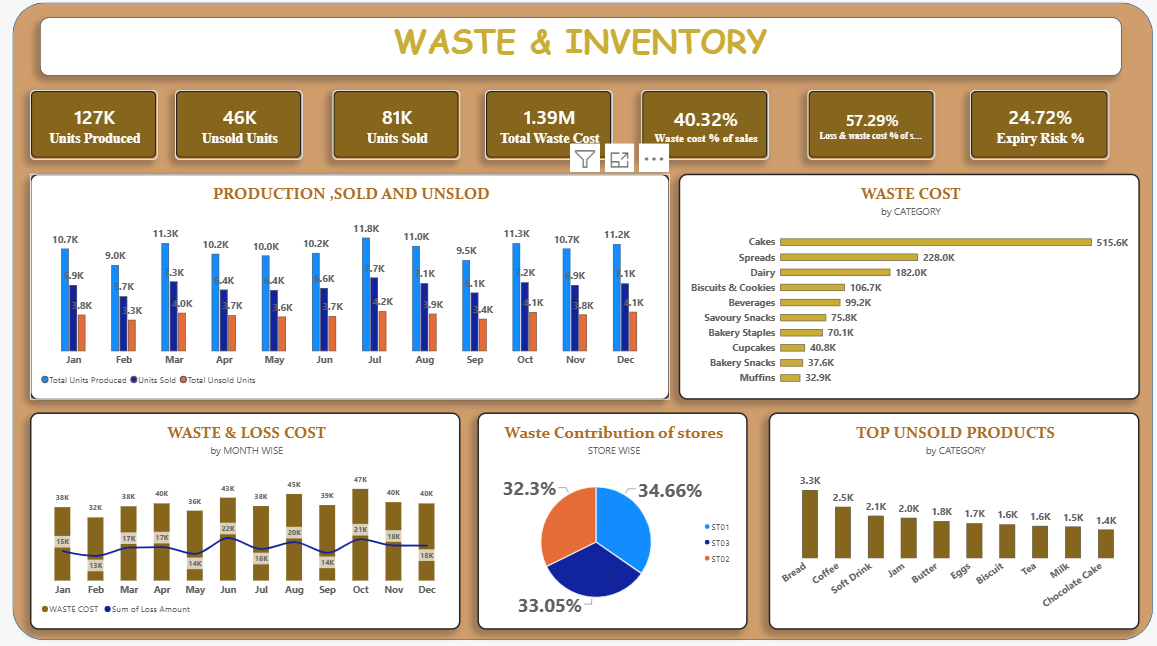

What the dashboard file says about the page in this screenshot:
{"tool":"powerbi","page":{"name":"WASTE & INVENTORY ","canvas":[1920,1080],"ordinal":2},"visuals":[{"type":"shape","box":[20,13.3,1878,1050],"z":0},{"type":"cardVisual","fields":{"Data":["_Measures.Units Produced"]},"box":[48.9,157.4,210.6,114.9],"z":1000},{"type":"textbox","box":[66,36.2,1780.9,95.7],"z":2000},{"type":"cardVisual","fields":{"Data":["_Measures.Unsold Units"]},"box":[287.2,157.4,210.6,114.9],"z":3000},{"type":"cardVisual","fields":{"Data":["_Measures.Units Sold"]},"box":[546.8,157.4,210.6,114.9],"z":4000},{"type":"cardVisual","fields":{"Data":["_Measures.Total Waste Cost"]},"box":[797.9,157.4,210.6,114.9],"z":5000},{"type":"cardVisual","fields":{"Data":["_Measures.Waste %"]},"box":[1055.3,157.4,210.6,114.9],"z":6000},{"type":"cardVisual","fields":{"Data":["_Measures.Loss + Waste %"]},"box":[1329.8,157.4,210.6,114.9],"z":7000},{"type":"cardVisual","fields":{"Data":["_Measures.Expiry Risk %"]},"box":[1597.9,157.4,229.8,114.9],"z":8000},{"type":"clusteredColumnChart","title":"PRODUCTION ,SOLD AND UNSLOD ","fields":{"Y":["_Measures.Total Units Produced","_Measures.Units Sold","_Measures.Total Unsold Units"],"Category":["bakery_synthetic_dataset.MONTH NAME"]},"box":[49.4,294.3,1053.9,372.6],"z":9000},{"type":"barChart","title":"WASTE COST ","fields":{"Category":["bakery_synthetic_dataset.Category"],"Y":["_Measures.Total Waste Cost"]},"box":[1117,293.6,759.6,372.3],"z":10000},{"type":"columnChart","title":"TOP UNSOLD PRODUCTS","fields":{"Category":["bakery_synthetic_dataset.Product"],"Y":["_Measures.Unsold Units"]},"box":[1266,687.2,610.6,357.4],"z":11000},{"type":"lineStackedColumnComboChart","title":"WASTE & LOSS COST","fields":{"Category":["bakery_synthetic_dataset.MONTH"],"Y":["Sum(bakery_synthetic_dataset.Waste_Cost)"],"Y2":["Sum(bakery_synthetic_dataset.Loss Amount)"]},"box":[48.9,687.2,708.5,357.4],"z":12000},{"type":"pieChart","title":"Waste Contribution of stores","fields":{"Category":["bakery_synthetic_dataset.Store_ID"],"Y":["_Measures.Waste %"]},"box":[787.2,687.2,444.7,357.4],"z":13000}]}

Visuals, with their boxes in screenshot pixels (x1, y1, x2, y2), scaled from the page's 1920x1080 canvas onto the 1157x646 screenshot:
shape: [x1=12, y1=8, x2=1144, y2=636]
cardVisual - _Measures.Units Produced: [x1=29, y1=94, x2=156, y2=163]
textbox: [x1=40, y1=22, x2=1113, y2=79]
cardVisual - _Measures.Unsold Units: [x1=173, y1=94, x2=300, y2=163]
cardVisual - _Measures.Units Sold: [x1=330, y1=94, x2=456, y2=163]
cardVisual - _Measures.Total Waste Cost: [x1=481, y1=94, x2=608, y2=163]
cardVisual - _Measures.Waste %: [x1=636, y1=94, x2=763, y2=163]
cardVisual - _Measures.Loss + Waste %: [x1=801, y1=94, x2=928, y2=163]
cardVisual - _Measures.Expiry Risk %: [x1=963, y1=94, x2=1101, y2=163]
"PRODUCTION ,SOLD AND UNSLOD " clusteredColumnChart: [x1=30, y1=176, x2=665, y2=399]
"WASTE COST " barChart: [x1=673, y1=176, x2=1131, y2=398]
"TOP UNSOLD PRODUCTS" columnChart: [x1=763, y1=411, x2=1131, y2=625]
"WASTE & LOSS COST" lineStackedColumnComboChart: [x1=29, y1=411, x2=456, y2=625]
"Waste Contribution of stores" pieChart: [x1=474, y1=411, x2=742, y2=625]
